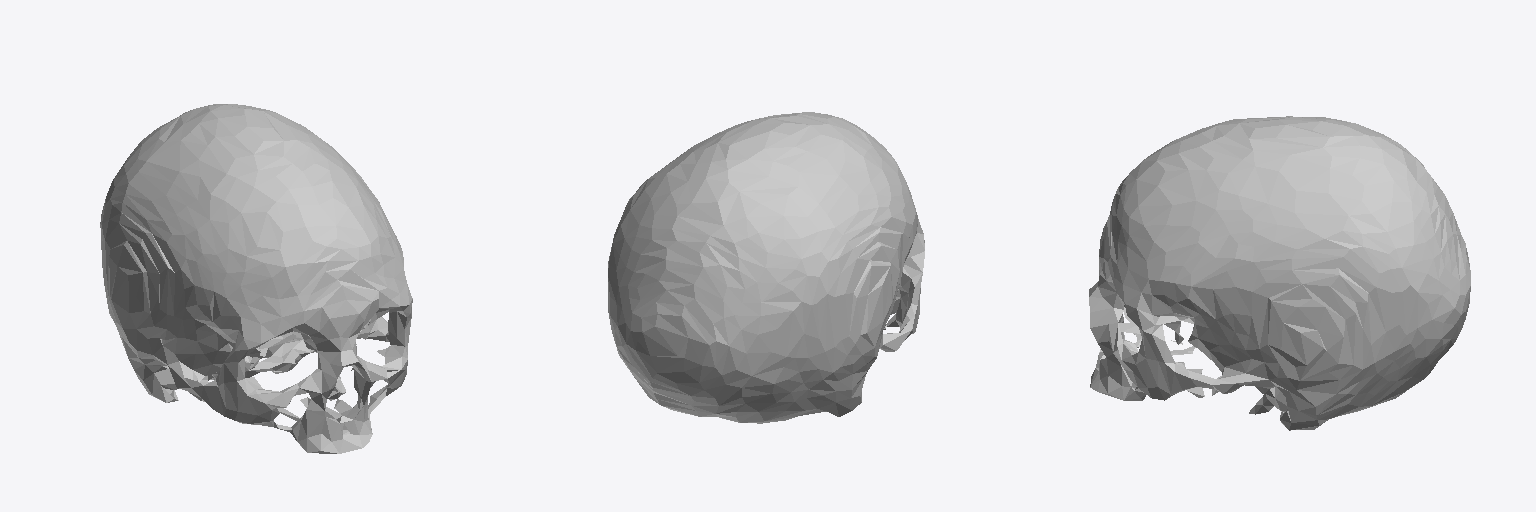
File: DskullC003.obj
The picture shows the model from 3 angles: view 1: azimuth 30°, elevation 25°; view 2: azimuth 150°, elevation 25°; view 3: azimuth 270°, elevation 25°; orthographic projection.
Visible parts, largest first — view 1: Tetemeshcomplete_Tetemeshcomplete.001; view 2: Tetemeshcomplete_Tetemeshcomplete.001; view 3: Tetemeshcomplete_Tetemeshcomplete.001.
Boxes of the visible parts, <box> form: Tetemeshcomplete_Tetemeshcomplete.001: <box>100,104,412,453</box>; Tetemeshcomplete_Tetemeshcomplete.001: <box>608,112,924,423</box>; Tetemeshcomplete_Tetemeshcomplete.001: <box>1089,116,1470,430</box>.
Size of the model in its own units: 1.76 by 1.77 by 2.39.